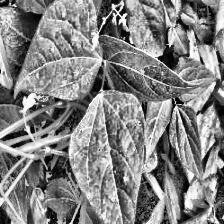Bean Rust: (70, 100, 146, 224), (13, 0, 99, 99), (100, 26, 195, 102)
